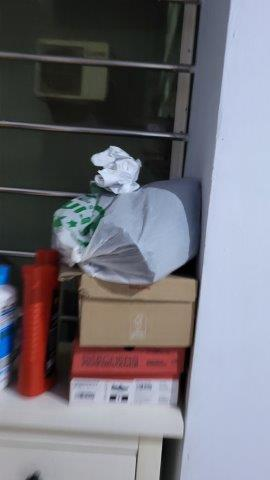kertas: (89, 141, 141, 193)
plastik: (63, 197, 193, 273)
